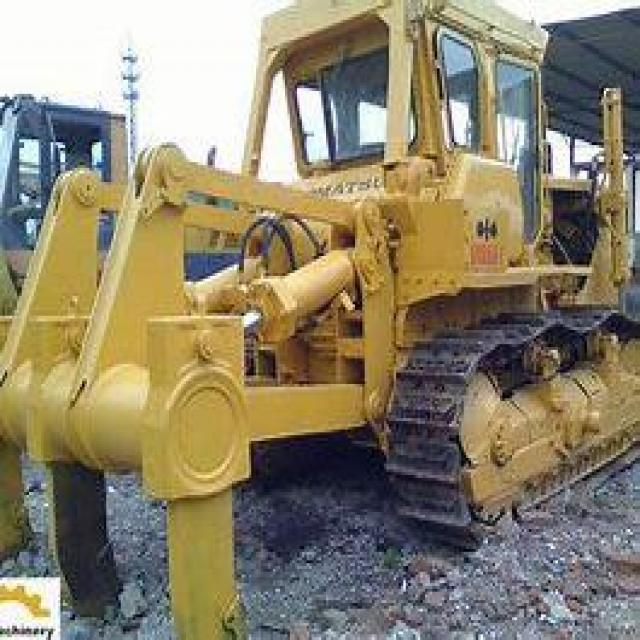Bulldozer: (10, 3, 638, 617)
